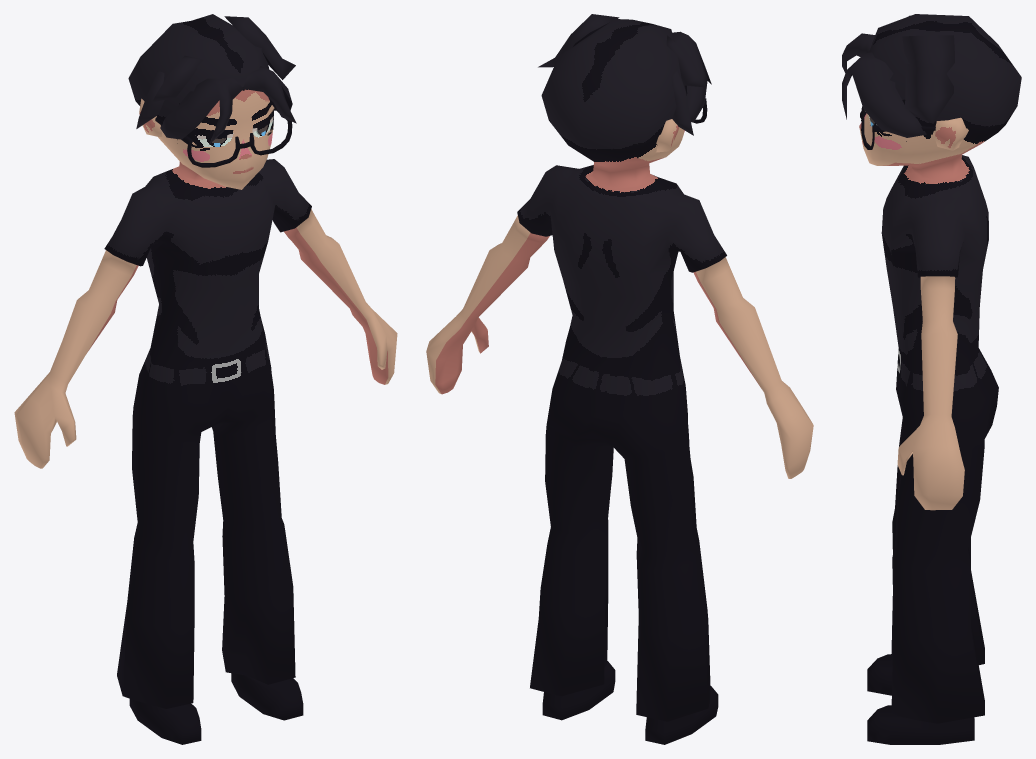
The model's file is markFigure.glb.
The picture shows the model from 3 angles, left to right: view 1: azimuth 30°, elevation 25°; view 2: azimuth 150°, elevation 25°; view 3: azimuth 270°, elevation 25°; orthographic projection.
Parts seen in each view (by area): view 1: MarkFigureMesh; view 2: MarkFigureMesh; view 3: MarkFigureMesh.
Boxes of the visible parts, x1=… form: MarkFigureMesh: x1=14, y1=14, x2=397, y2=744; MarkFigureMesh: x1=426, y1=14, x2=813, y2=744; MarkFigureMesh: x1=842, y1=14, x2=1021, y2=744.
Size of the model in its own units: 2.23 by 3.93 by 0.9216.
1 material, 1 textured.
